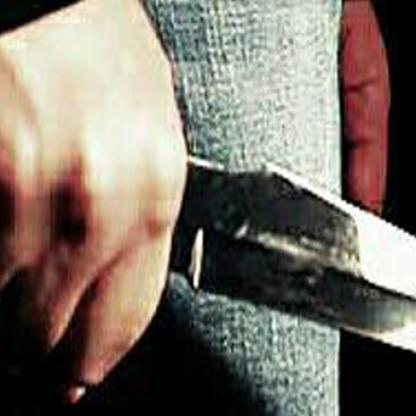knife: (0, 136, 415, 408)
